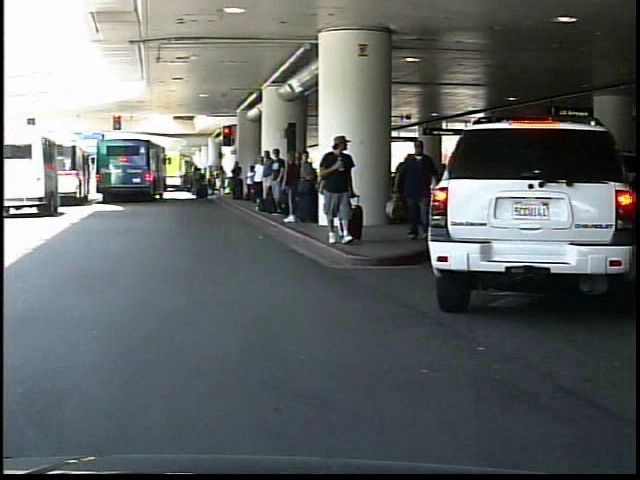person: (393, 131, 441, 249), (320, 130, 363, 246)
